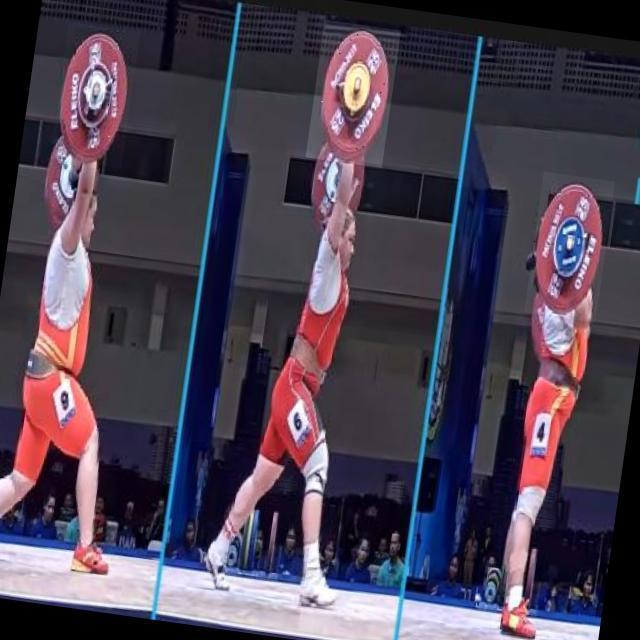barbell: (307, 21, 403, 169), (525, 173, 616, 324), (51, 23, 142, 170)
